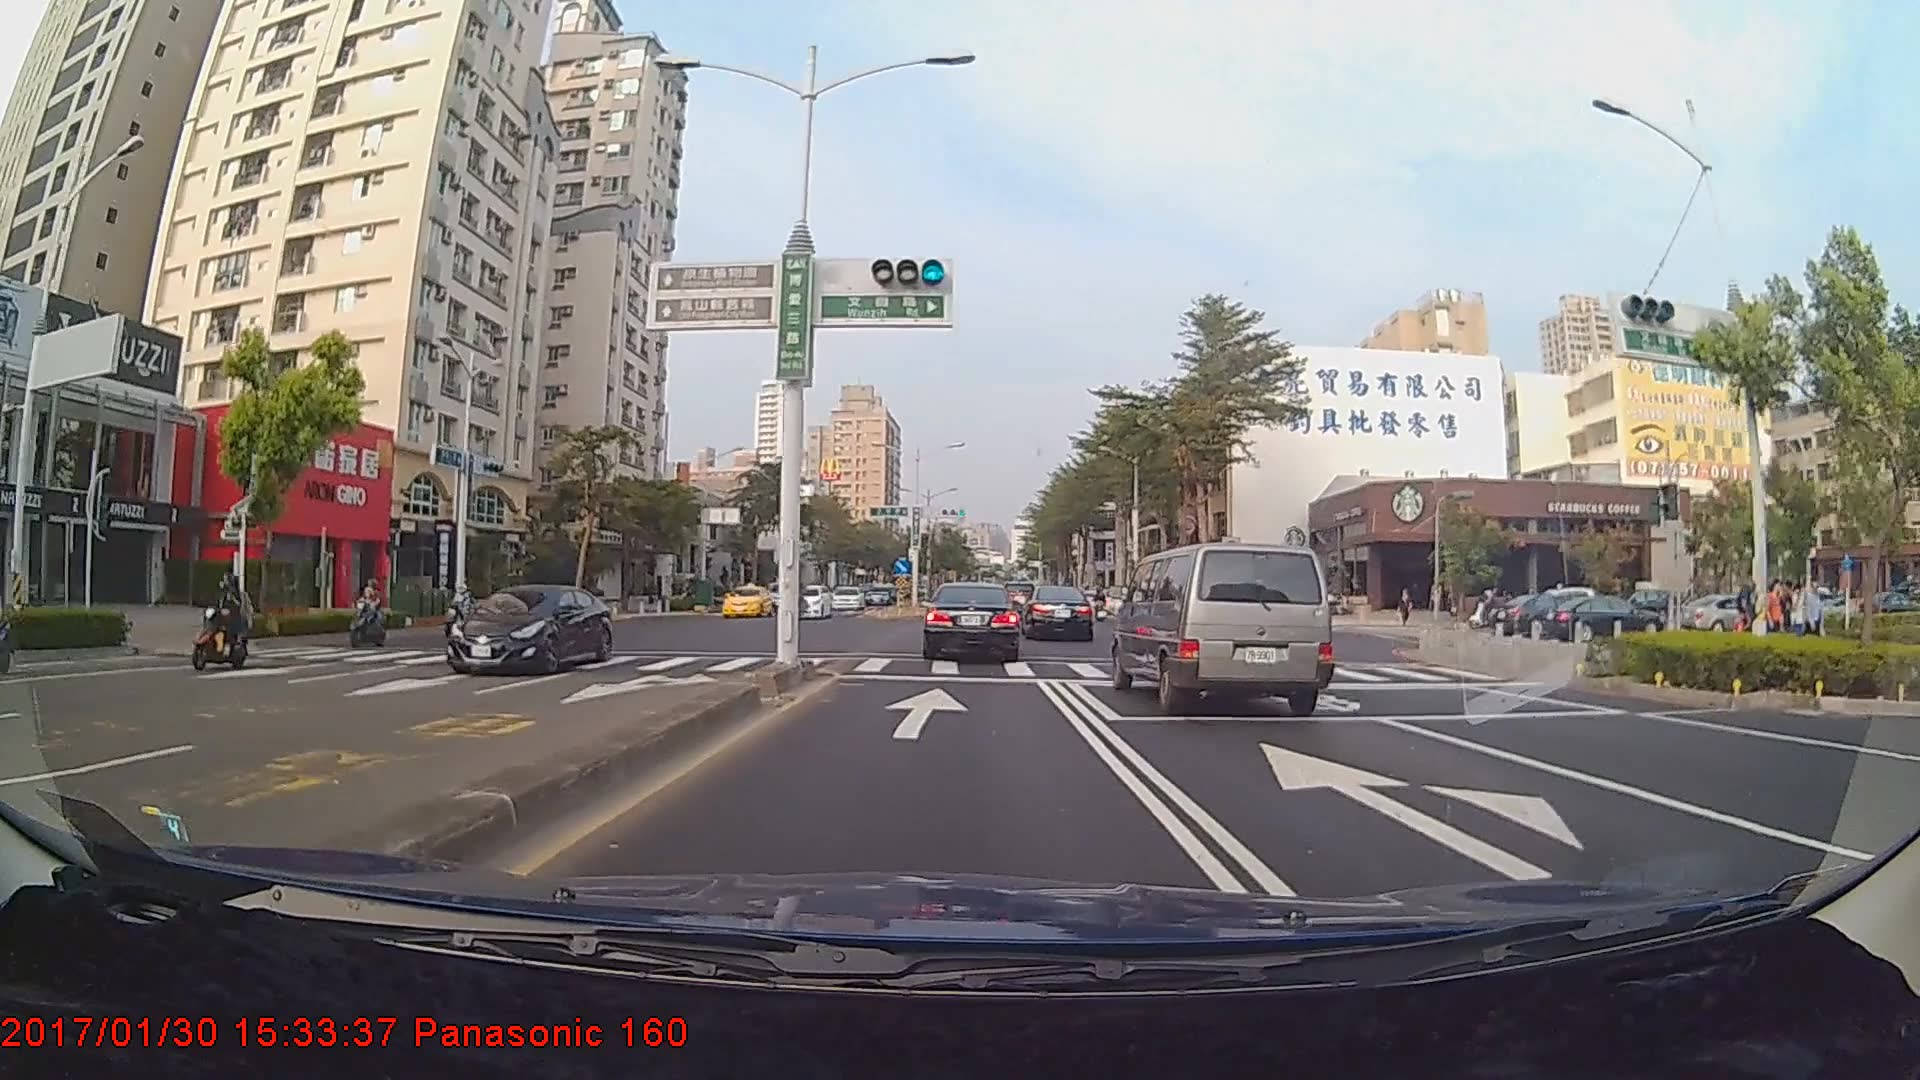pedestrian: (1736, 567, 1761, 655), (1764, 581, 1786, 648), (1789, 584, 1809, 653), (1808, 581, 1828, 645)
rider: (180, 568, 260, 673), (348, 578, 394, 653)
vehicle: (1110, 540, 1337, 712), (443, 581, 616, 675), (921, 582, 1022, 664), (1539, 589, 1670, 645), (1490, 589, 1593, 642), (1020, 584, 1095, 642), (719, 581, 774, 617), (781, 583, 833, 620), (827, 584, 863, 610)
